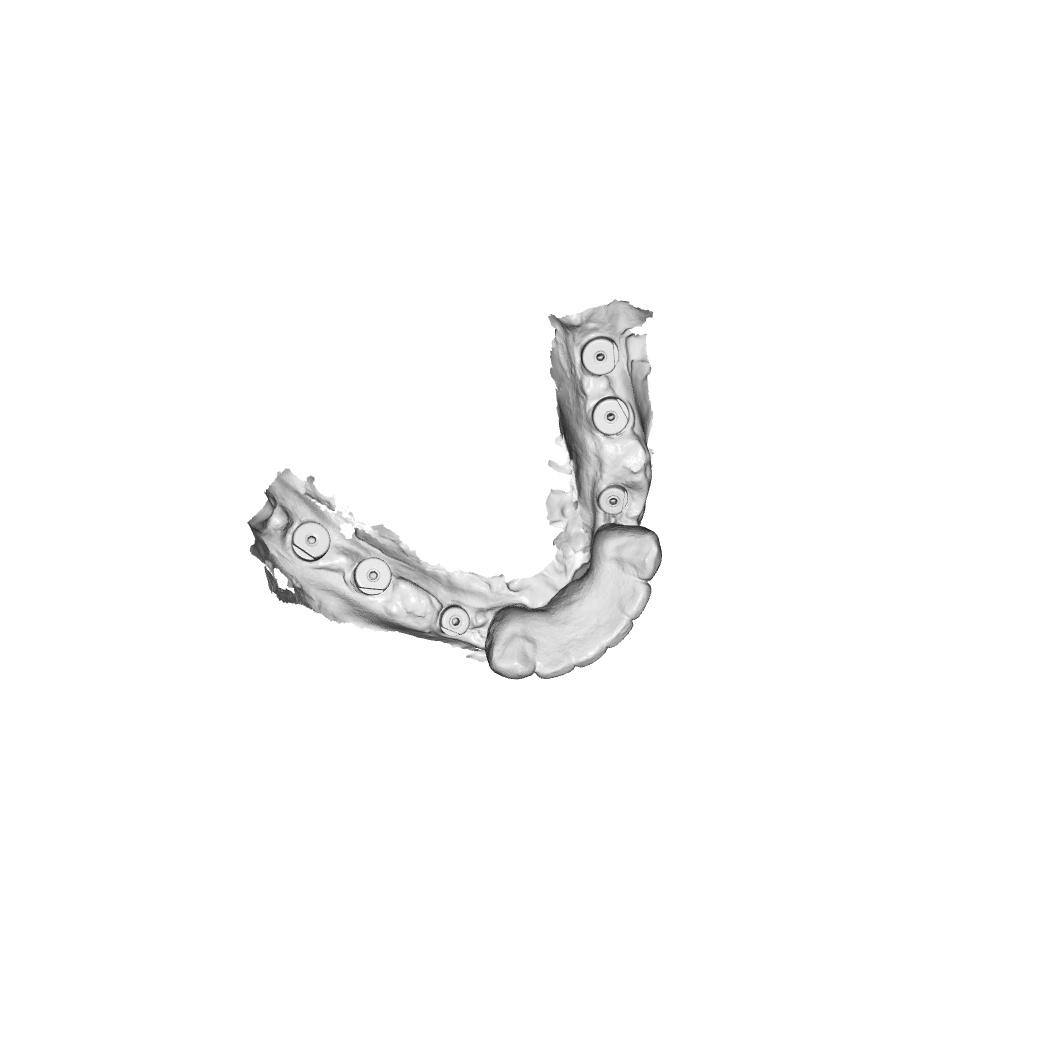canine: (592, 522, 663, 581), (484, 604, 537, 681)
implant: (290, 520, 333, 565), (579, 335, 620, 377), (352, 556, 394, 597), (591, 396, 631, 436), (438, 604, 472, 638), (597, 484, 629, 515)
incisor: (535, 643, 577, 680), (572, 631, 609, 668), (617, 581, 652, 620), (595, 614, 634, 649)
